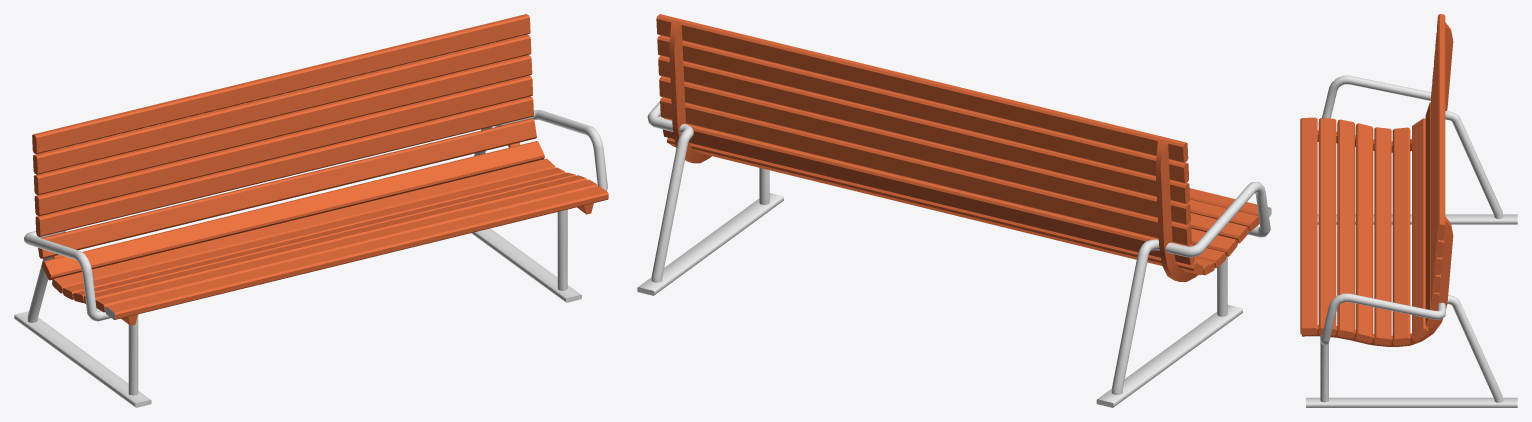
The model's file is Bench-M00A.fbx.
3 views of the same model, side by side, from view 1: azimuth 30°, elevation 25°; view 2: azimuth 150°, elevation 25°; view 3: azimuth 270°, elevation 25° (orthographic). The views are drawn at different scales.
Parts seen in each view (by area): view 1: Bench-M00A; view 2: Bench-M00A; view 3: Bench-M00A.
Part boxes in pixels (<box>): Bench-M00A: <box>14,14,608,407</box>; Bench-M00A: <box>637,14,1271,407</box>; Bench-M00A: <box>1300,14,1517,407</box>.
Bounding box in the file's own units: 260 × 106 × 108.
